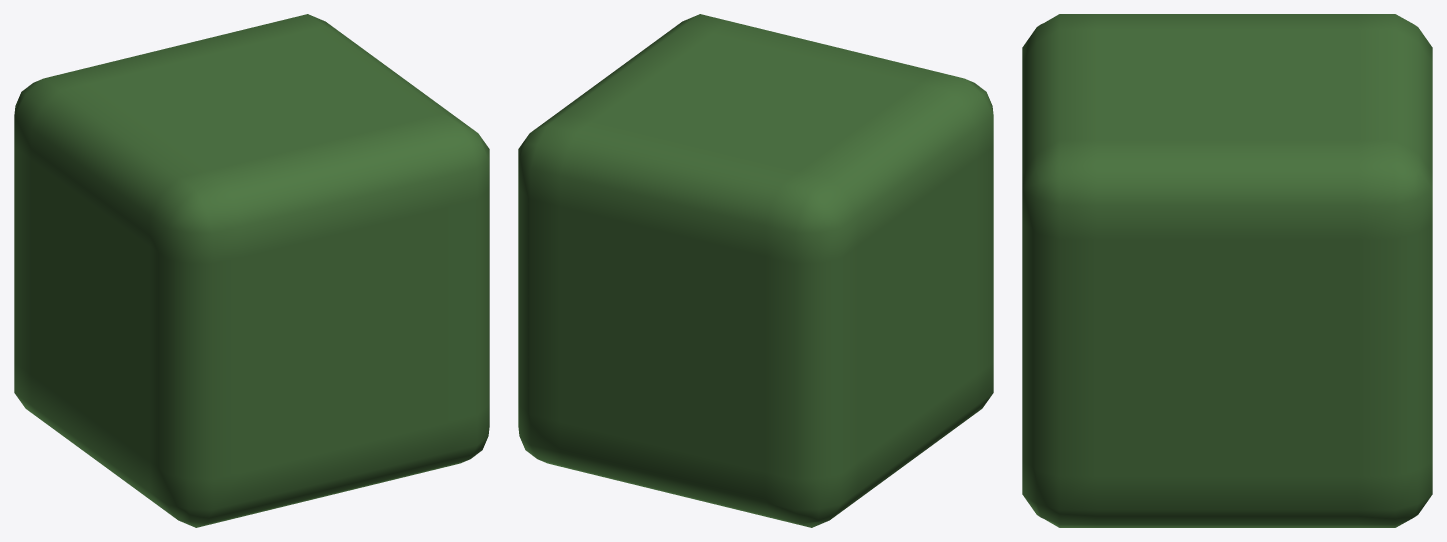
3 renders of one model, left to right at view 1: azimuth 30°, elevation 25°; view 2: azimuth 150°, elevation 25°; view 3: azimuth 270°, elevation 25°, orthographic. The views are drawn at different scales.
Visible parts, largest first — view 1: Cube; view 2: Cube; view 3: Cube.
Boxes of the visible parts, x1,y1,x2,y2 form: Cube: [14, 14, 489, 527]; Cube: [518, 14, 993, 527]; Cube: [1022, 14, 1432, 527].
Bounding box in the file's own units: 1 × 1 × 1.
